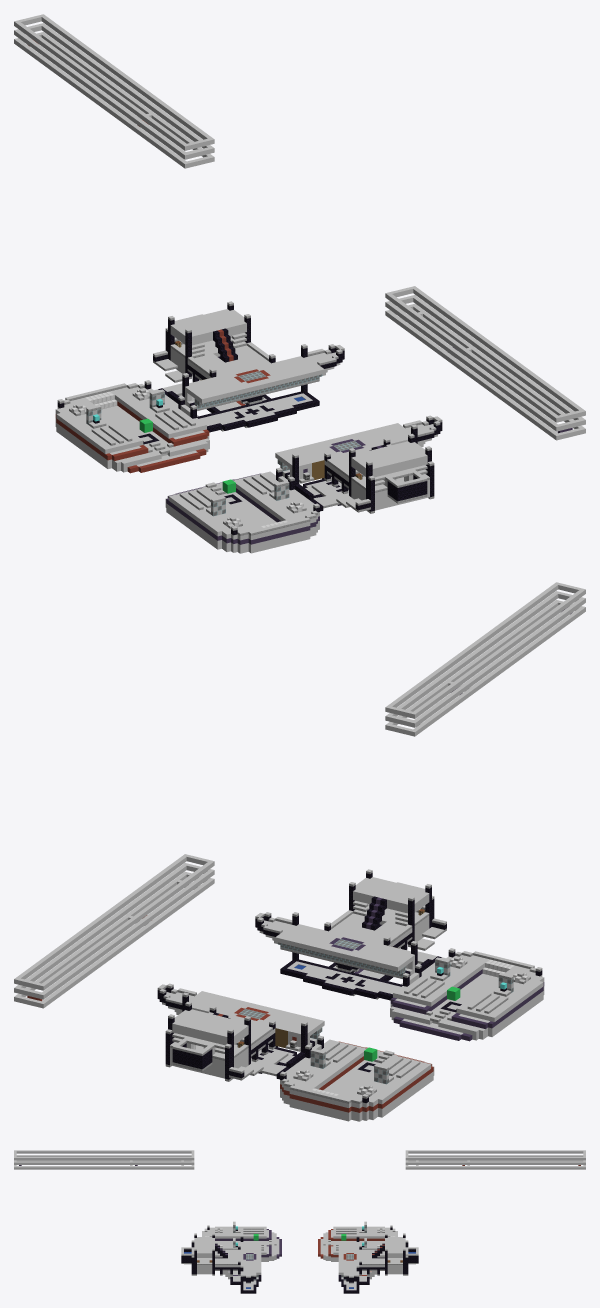
The model's file is minecraft.obj.
3 renders of one model, top to bottom at view 1: azimuth 30°, elevation 25°; view 2: azimuth 150°, elevation 25°; view 3: azimuth 270°, elevation 25°, orthographic. The views are drawn at different scales.
Bounding box in the file's own units: 60 × 53.5 × 222.
